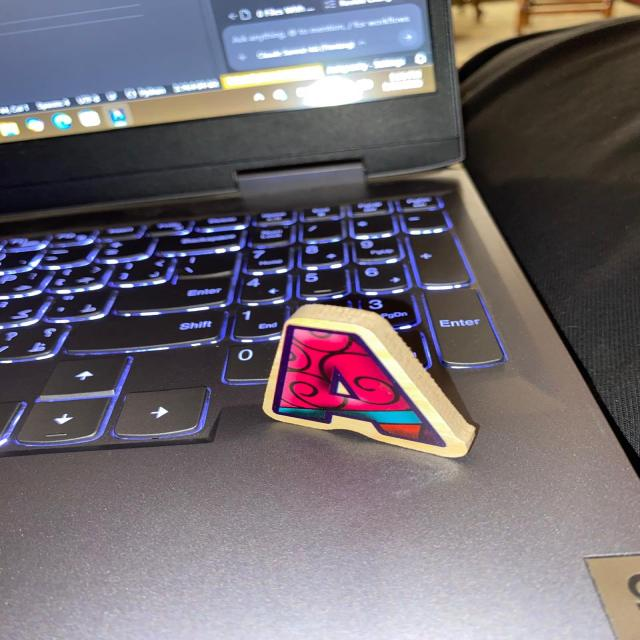A: (263, 304, 475, 457)
